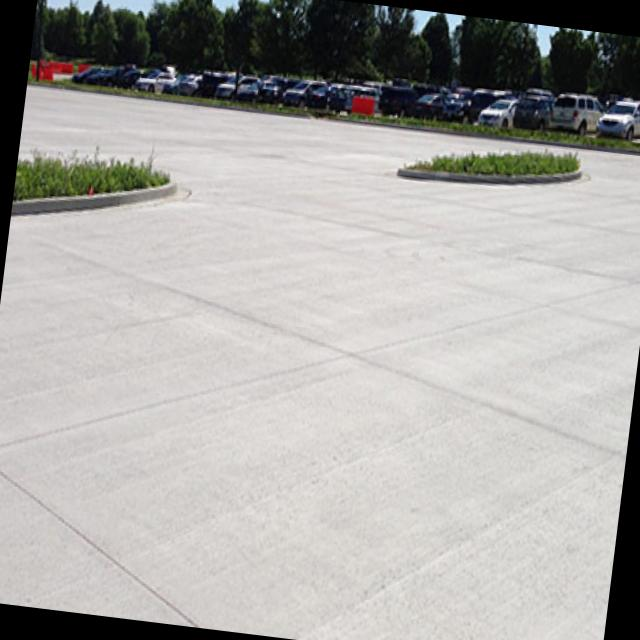cement: (0, 84, 640, 640)
grass: (12, 151, 167, 207), (398, 153, 579, 183)
